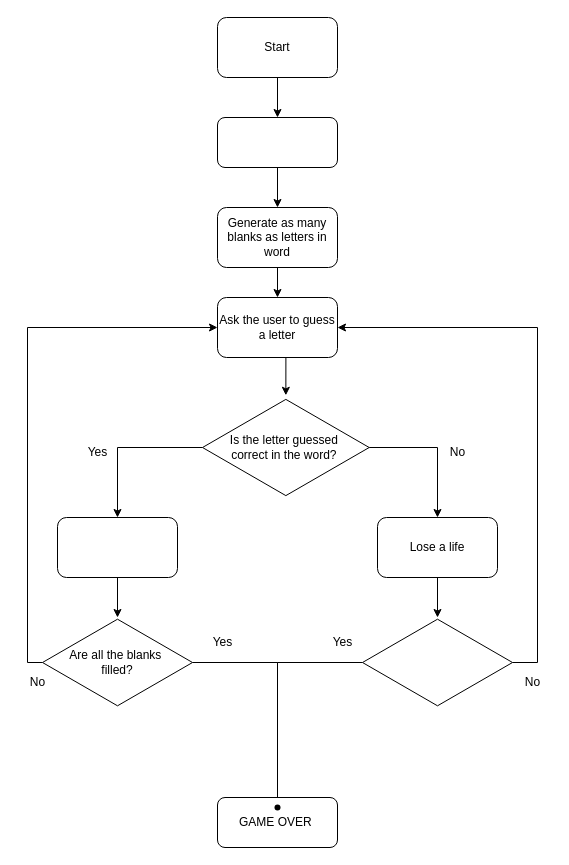
Image size: 569x865. Some labels were removed from this diagram. The box of each missing label's shape, as (x1, y1, x2, y2) in pixels:
Generate a random word: (216, 116, 338, 168)
Have they run out of lives?: (362, 616, 512, 708)
Replace the blank with the letter: (56, 516, 178, 578)
